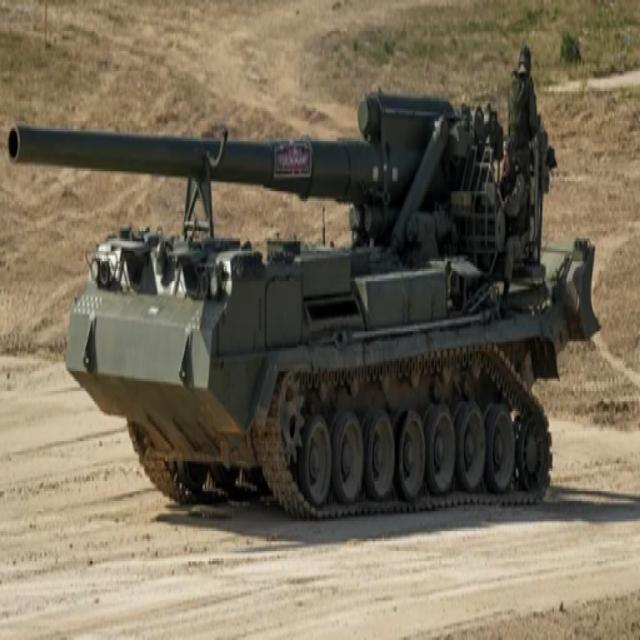ART: (5, 85, 597, 511)
